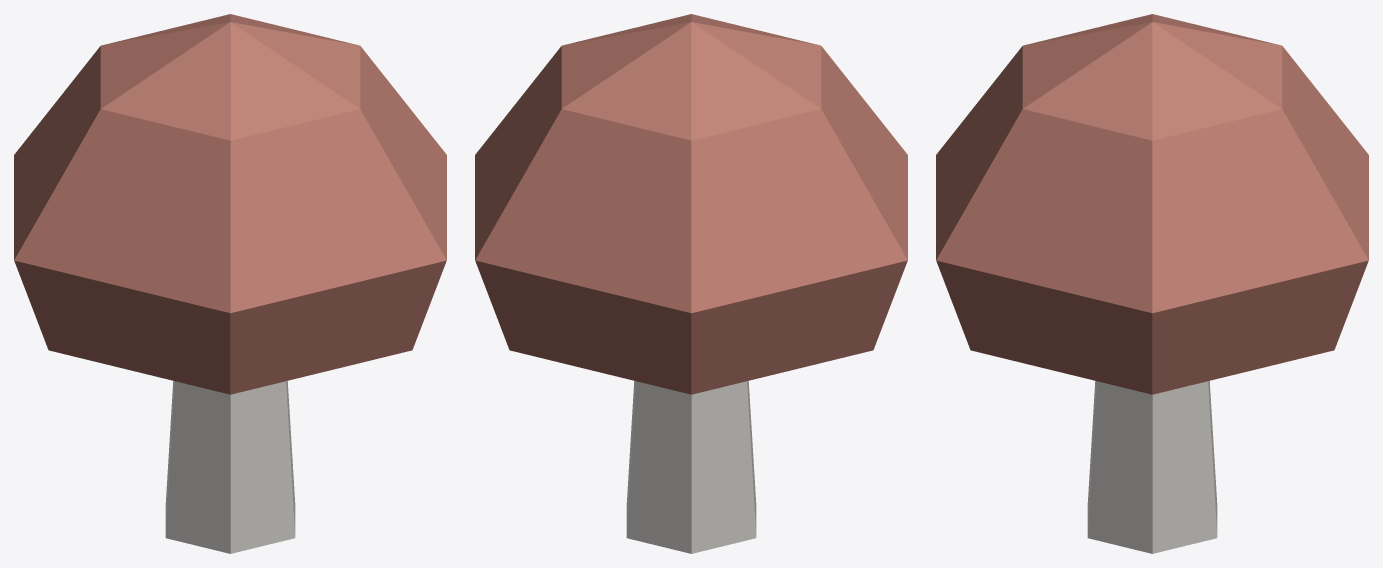
Rendered from Prop_Mushroom_1.glb.
3 renders of one model, left to right at view 1: azimuth 30°, elevation 25°; view 2: azimuth 150°, elevation 25°; view 3: azimuth 270°, elevation 25°, orthographic.
Parts seen in each view (by area): view 1: Prop_Mushroom_1_Merged; view 2: Prop_Mushroom_1_Merged; view 3: Prop_Mushroom_1_Merged.
Boxes of the visible parts, x1,y1,x2,y2 form: Prop_Mushroom_1_Merged: (14,14,446,553); Prop_Mushroom_1_Merged: (475,14,907,553); Prop_Mushroom_1_Merged: (936,14,1368,553).
Size of the model in its own units: 0.25 by 0.2762 by 0.2165.
